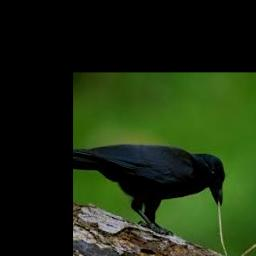Crow: (73, 143, 226, 236)
